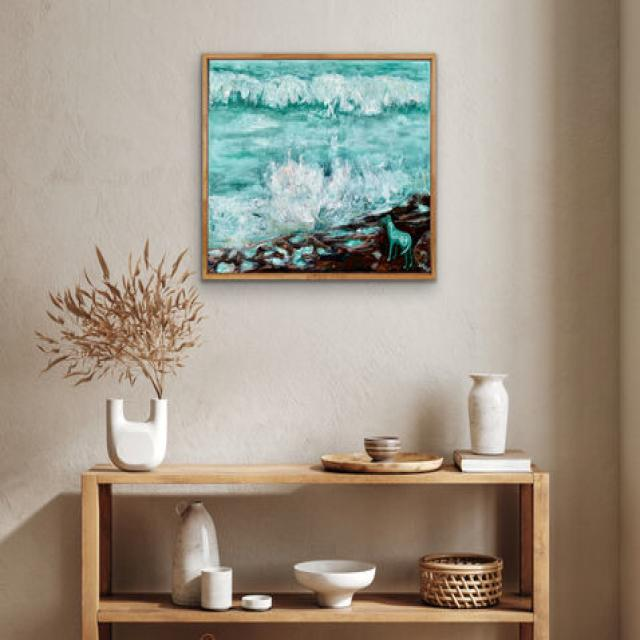painting: (201, 50, 438, 280)
